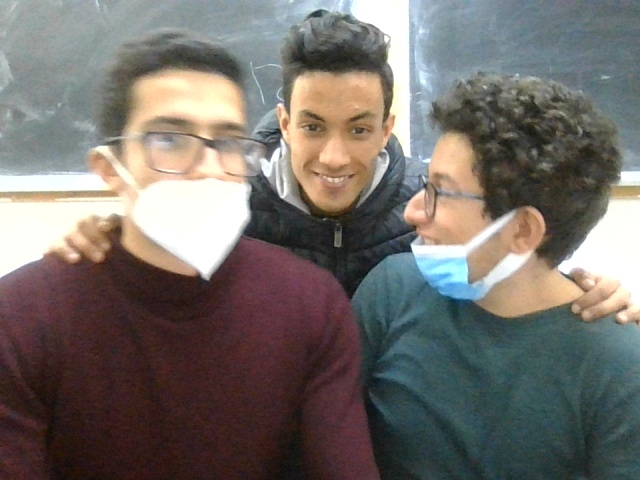mask_weared_incorrect: (400, 73, 601, 306)
without_mask: (265, 20, 396, 204)
